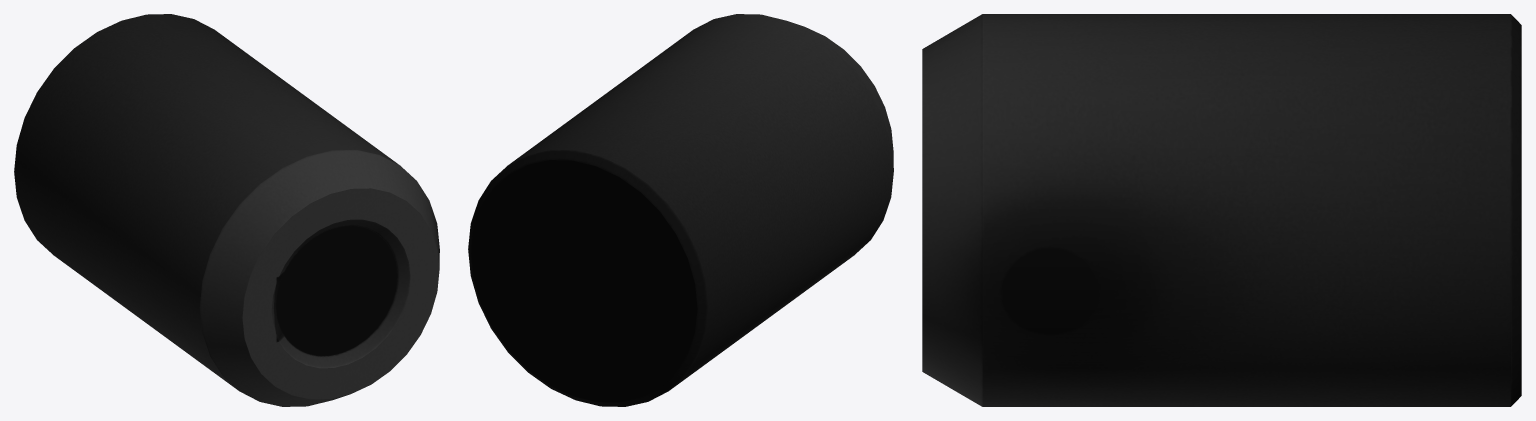
Rendered from UPH2_Top.obj.
3 renders of one model, left to right at view 1: azimuth 30°, elevation 25°; view 2: azimuth 150°, elevation 25°; view 3: azimuth 270°, elevation 25°, orthographic. The views are drawn at different scales.
Parts seen in each view (by area): view 1: polySurface961; view 2: polySurface961; view 3: polySurface961.
Boxes of the visible parts, x1,y1,x2,y2 form: polySurface961: (14,14,439,406); polySurface961: (468,14,893,406); polySurface961: (922,14,1521,406).
Bounding box in the file's own units: 25.03 × 24.9 × 38.04.
